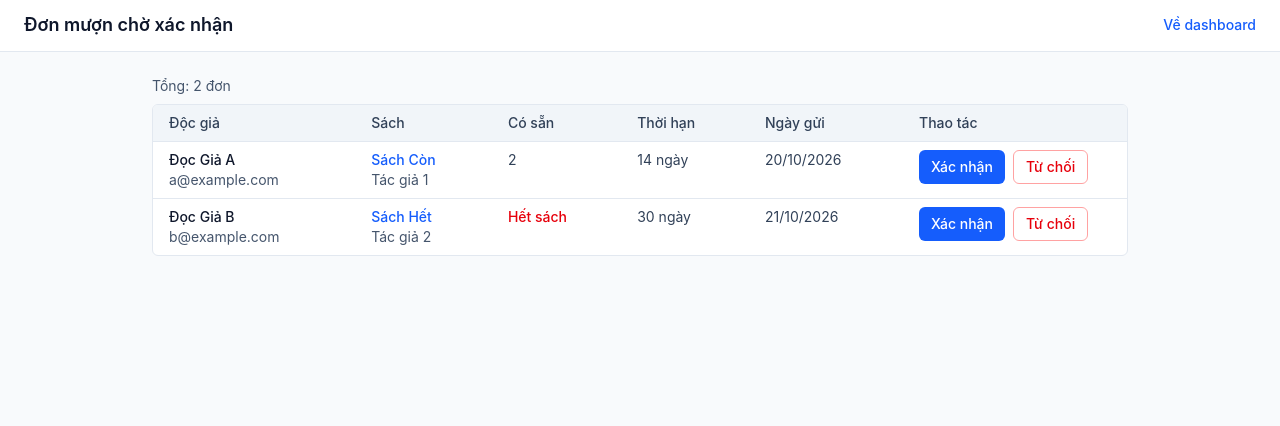
it: BorrowRequestsPage (2.3.2) › Từ chối đơn sách đã hết → gợi ý sẵn lý do "Hết sách"; Hủy đóng form
Check: the row named "Đơn Sách Hết của Đọc Giả B" is shown, box left=153, top=198, right=1127, bottom=255
Click the button with aria-label "Từ chối đơn Sách Hết của Đọc Giả B" at (1051,224), box left=1013, top=207, right=1088, bottom=241
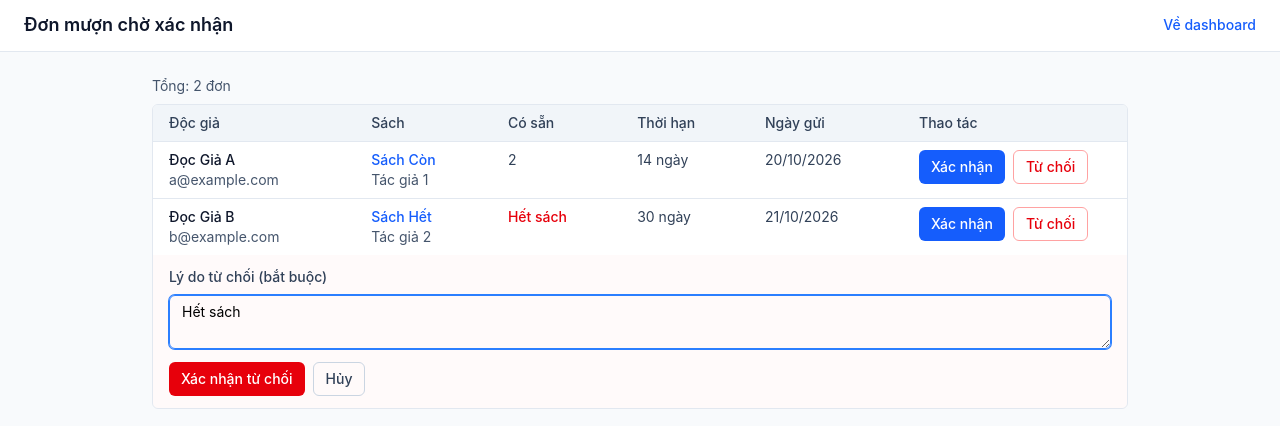
Check: the text box labelled "Lý do từ chối (bắt buộc)" holds "Hết sách", box left=169, top=295, right=1111, bottom=349
Click the button "Hủy" at (339,379), box left=313, top=362, right=366, bottom=396
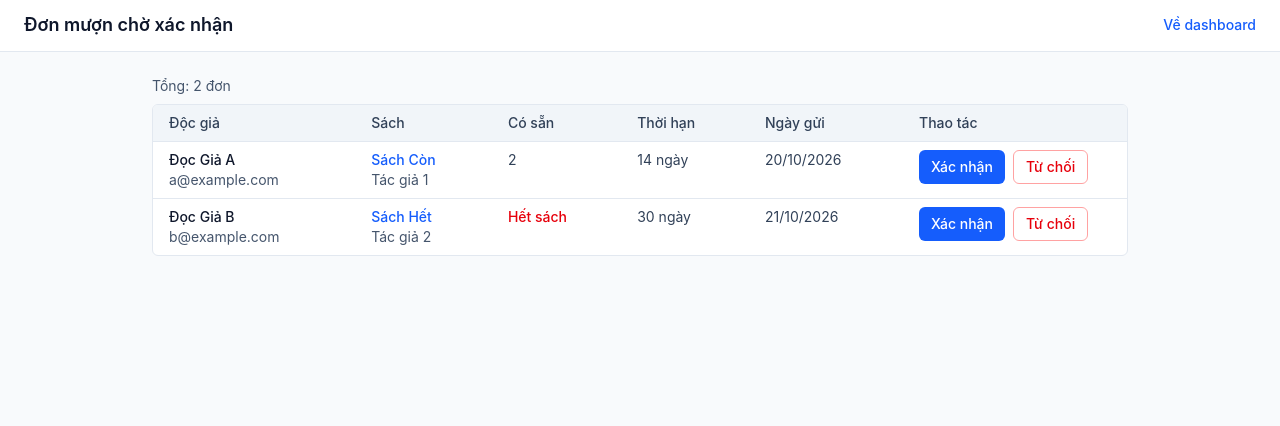
Check: the form is gone
